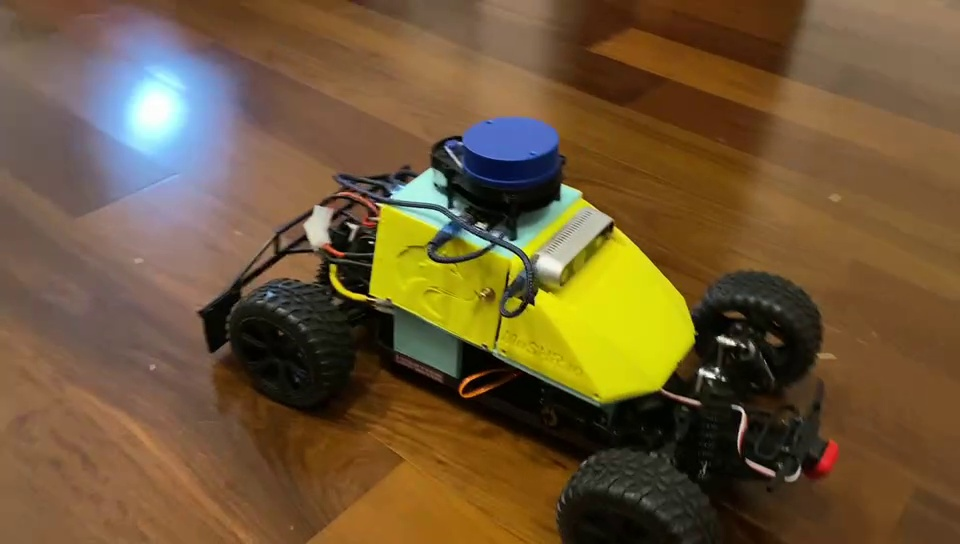mushr_car: (202, 96, 844, 544)
